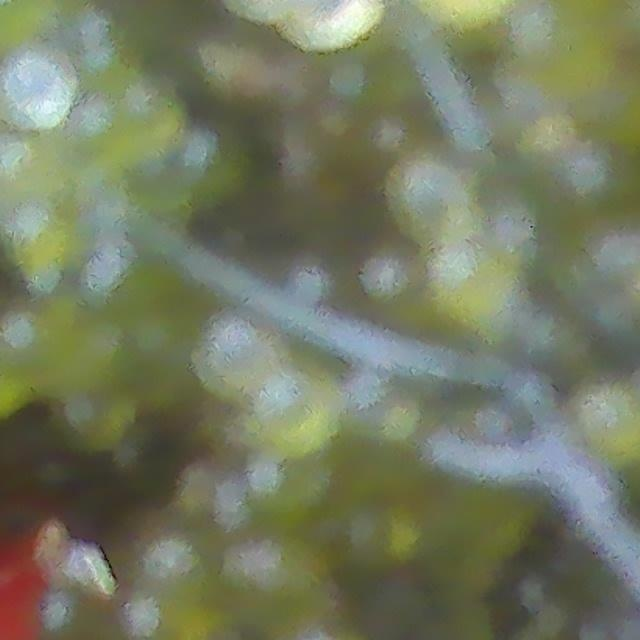SeaGrape: (506, 0, 620, 95), (381, 146, 477, 239), (225, 541, 330, 623), (194, 311, 273, 395), (3, 52, 71, 128), (284, 0, 379, 52), (115, 586, 206, 640), (409, 0, 514, 26), (215, 0, 306, 23)
